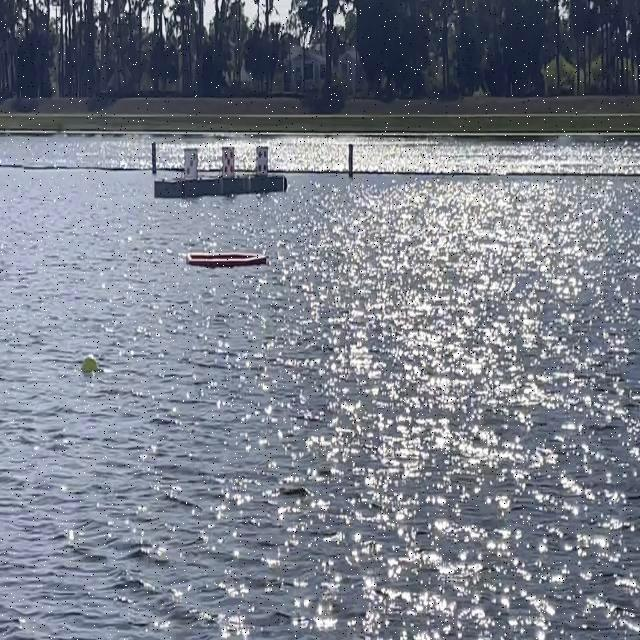buoy: (83, 354, 98, 376)
